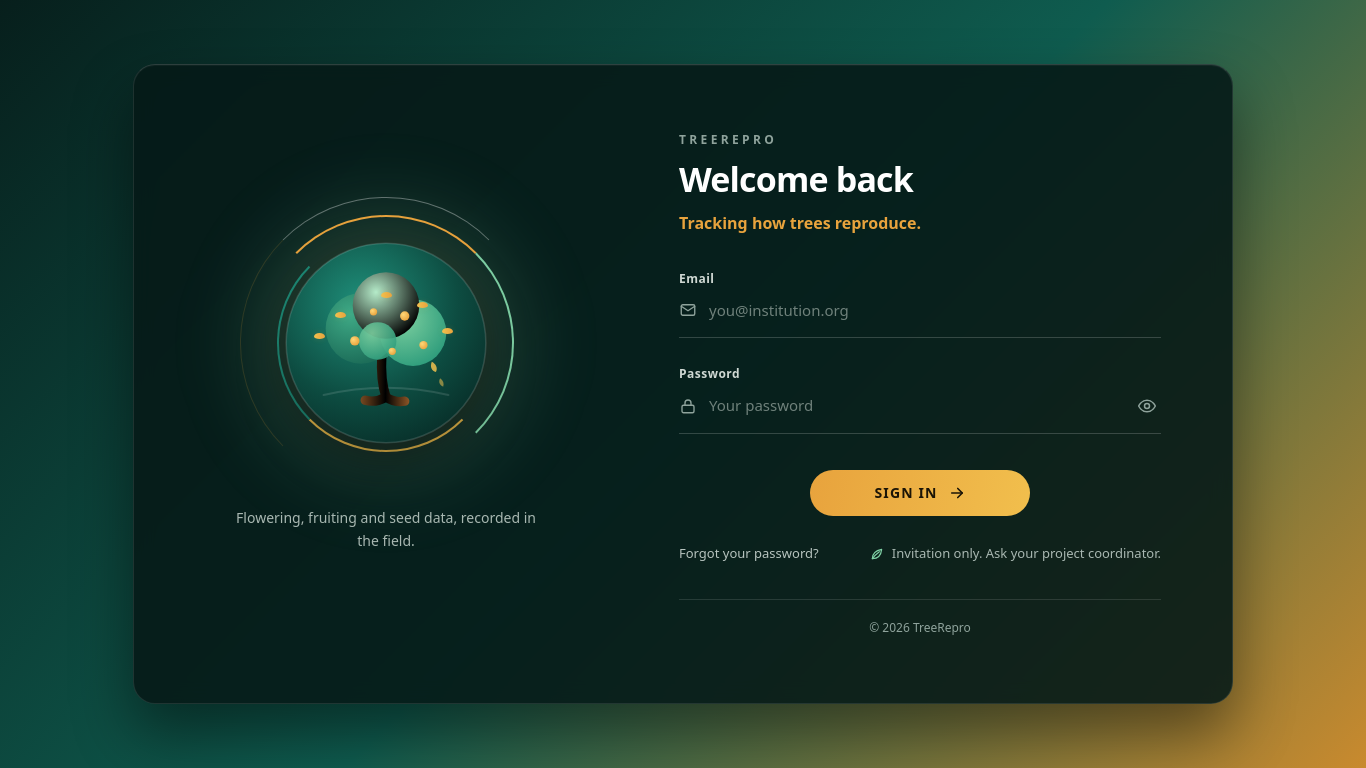
RFC-13 R7 the / route after sign-in › reaches /app through a view transition once the landing beats are over
The width and height of the screenshot is (1366, 768).
Type "ada@example.org" into the field labelled "Email". click: (935, 310)
box: [709, 295, 1161, 325]
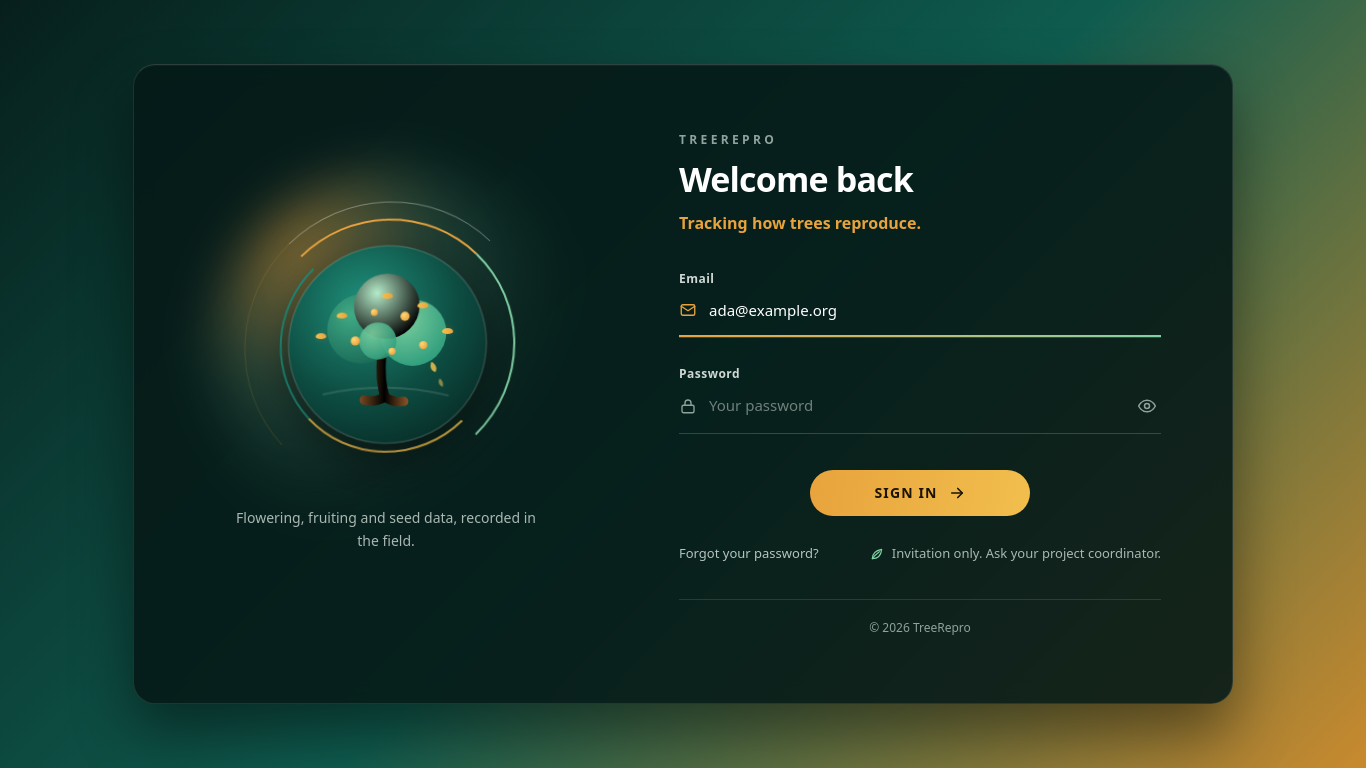
Type "hunter2hunter2" into the password field labelled "Password". click: (915, 406)
box: [709, 390, 1121, 421]
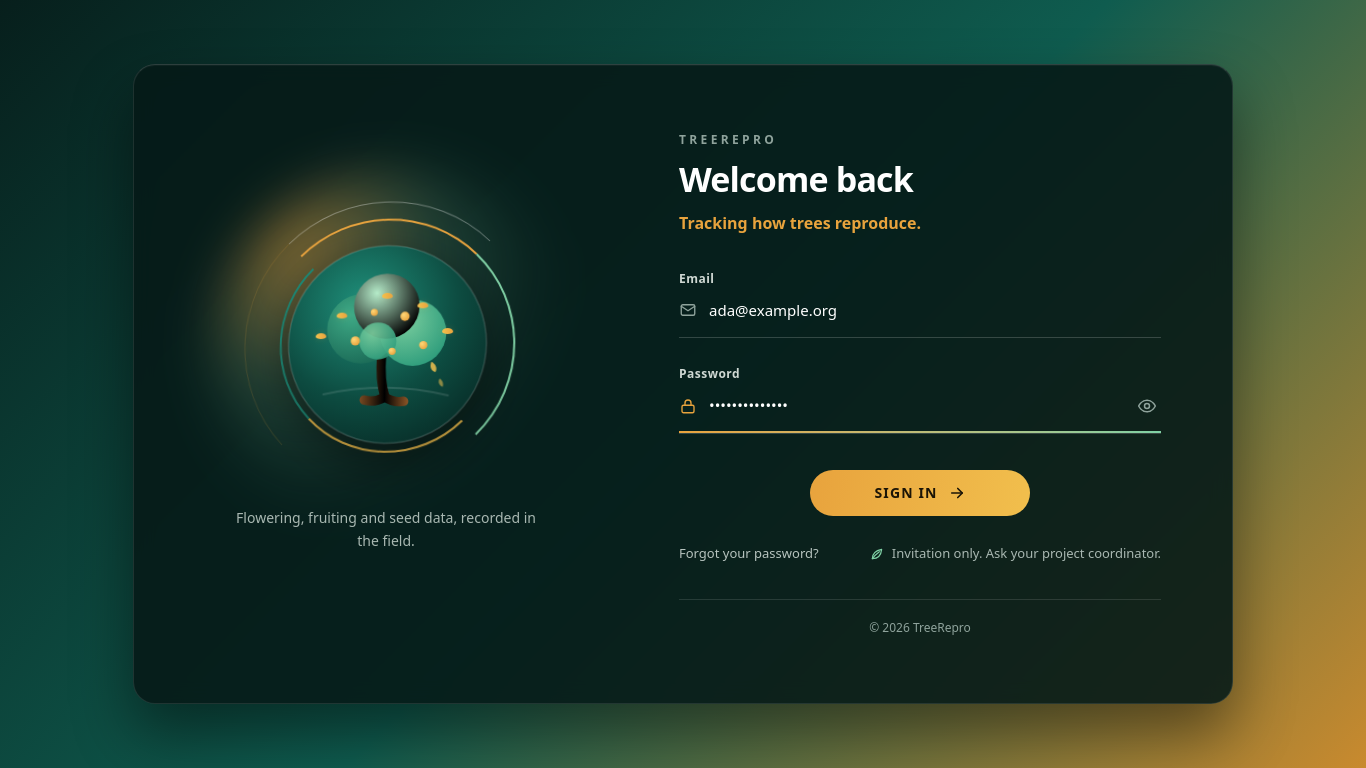
Click the button "Sign in". click: (920, 493)
box: [810, 470, 1030, 516]
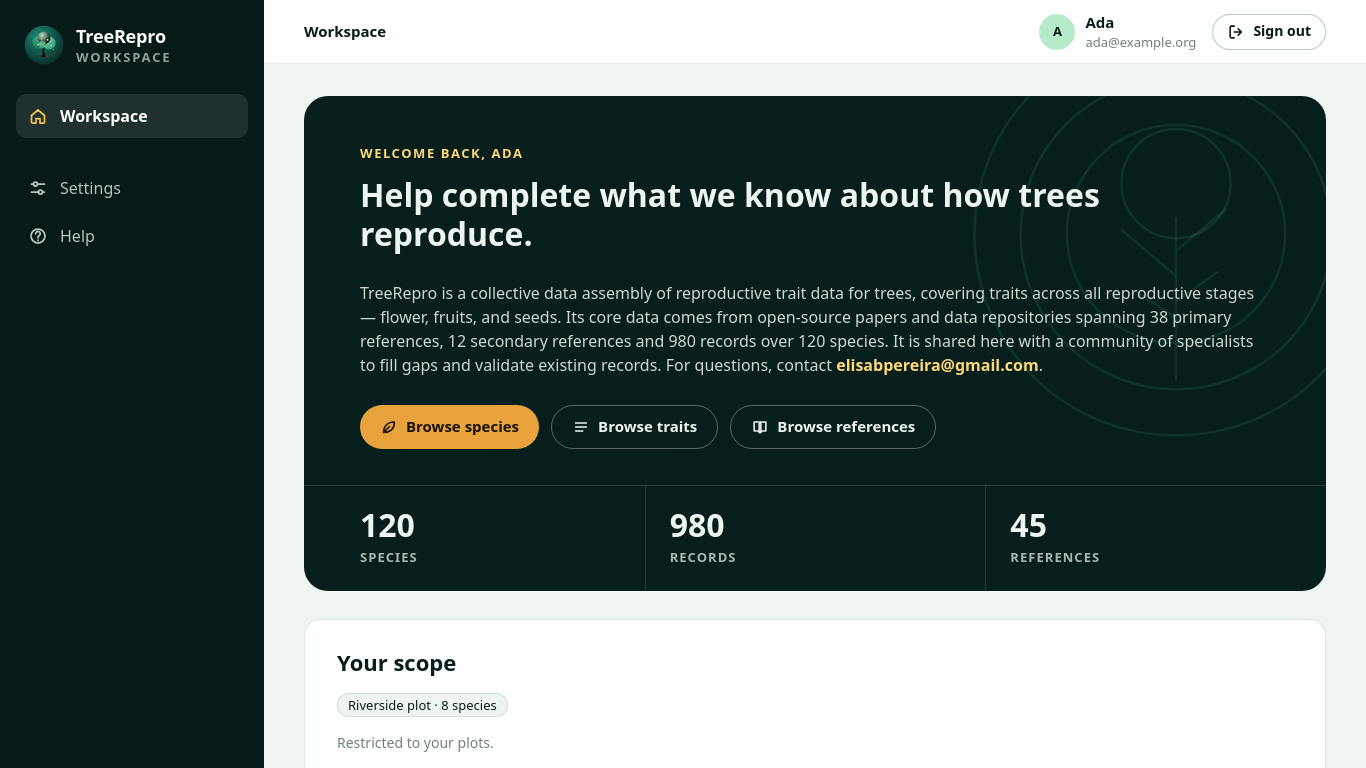
Check: the heading "Help complete what we know about how trees reproduce." is shown, box [360, 176, 1128, 253]
